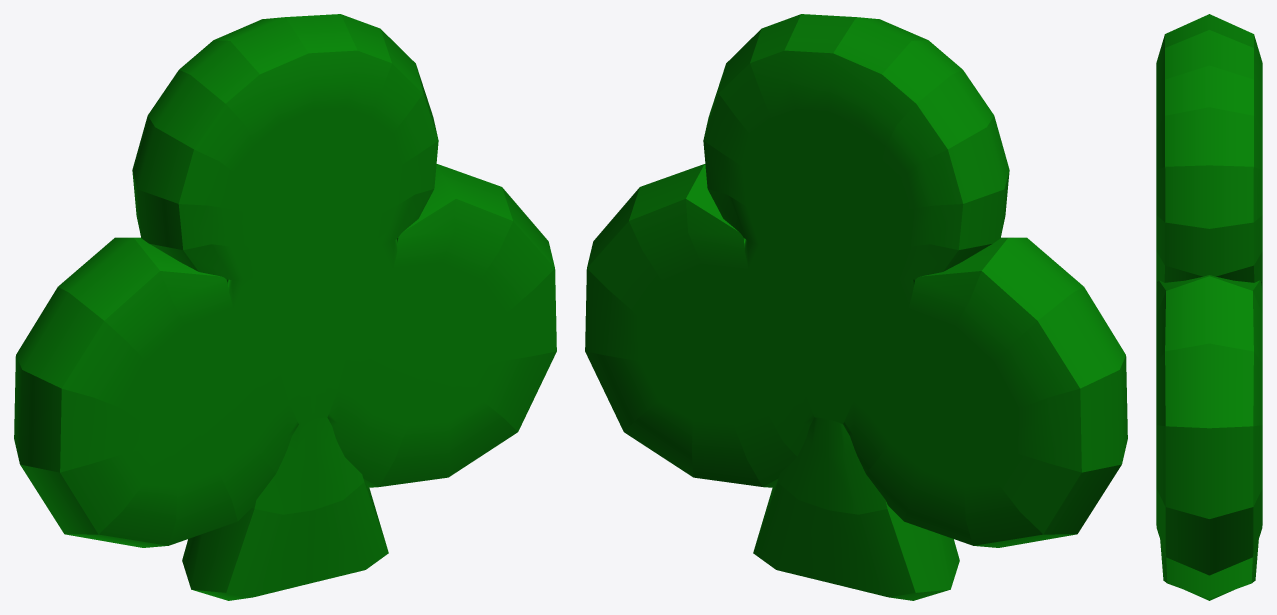
The model's file is clover_02.fbx.
The picture shows the model from 3 angles, left to right: view 1: azimuth 30°, elevation 25°; view 2: azimuth 150°, elevation 25°; view 3: azimuth 270°, elevation 25°; orthographic projection. The views are drawn at different scales.
Visible parts, largest first — view 1: cardSuit:club; view 2: cardSuit:club; view 3: cardSuit:club.
Boxes of the visible parts, x1=… form: cardSuit:club: x1=14, y1=14, x2=556, y2=600; cardSuit:club: x1=585, y1=14, x2=1127, y2=600; cardSuit:club: x1=1156, y1=14, x2=1262, y2=600.
Bounding box in the file's own units: 2.04 × 2.09 × 0.3698.
